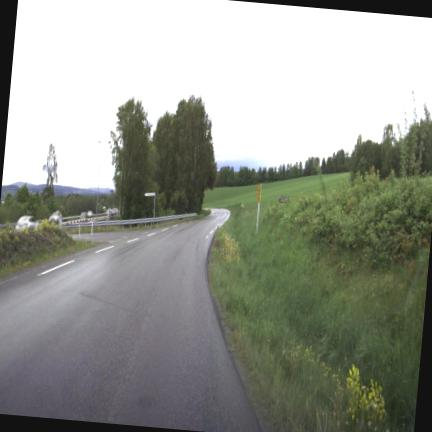Road: (0, 210, 261, 431)
